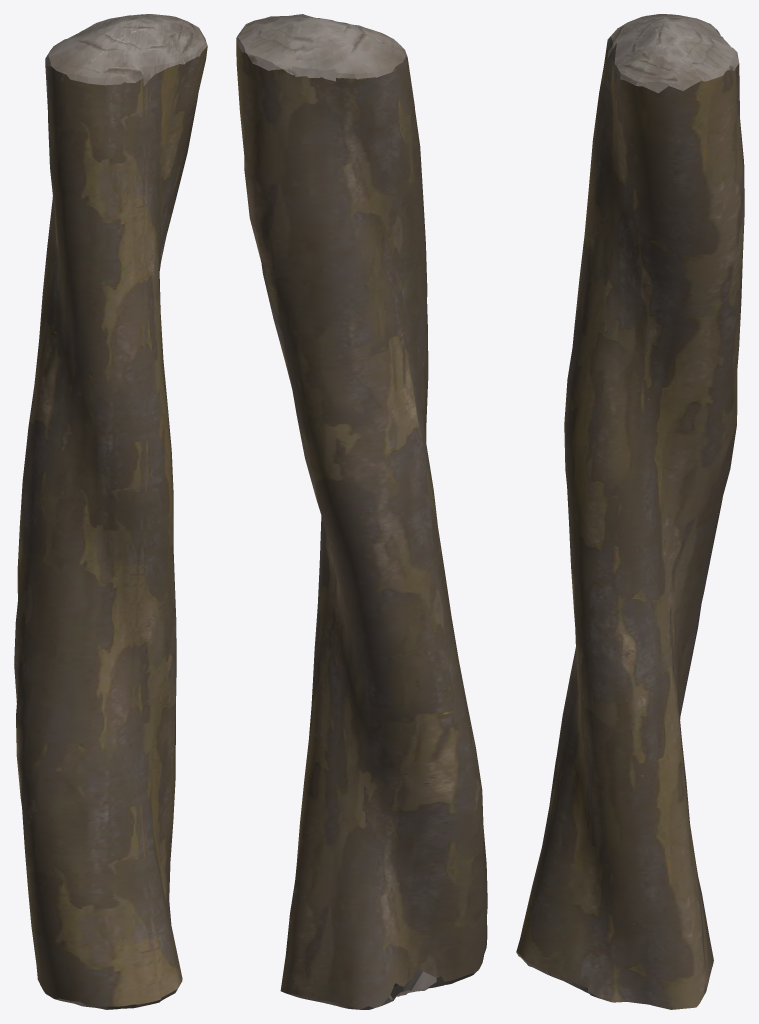
The picture shows the model from 3 angles, left to right: view 1: azimuth 30°, elevation 25°; view 2: azimuth 150°, elevation 25°; view 3: azimuth 270°, elevation 25°; orthographic projection. The views are drawn at different scales.
Parts seen in each view (by area): view 1: SM_Yew_01_tree_quarters_bottom_LOD0; view 2: SM_Yew_01_tree_quarters_bottom_LOD0; view 3: SM_Yew_01_tree_quarters_bottom_LOD0.
Boxes of the visible parts, x1,y1,x2,y2 form: SM_Yew_01_tree_quarters_bottom_LOD0: [14, 14, 207, 1009]; SM_Yew_01_tree_quarters_bottom_LOD0: [236, 14, 487, 1009]; SM_Yew_01_tree_quarters_bottom_LOD0: [516, 14, 744, 1009].
Bounding box in the file's own units: 1.33 × 6.08 × 1.27.
Materials: 1 (1 with a texture image).
